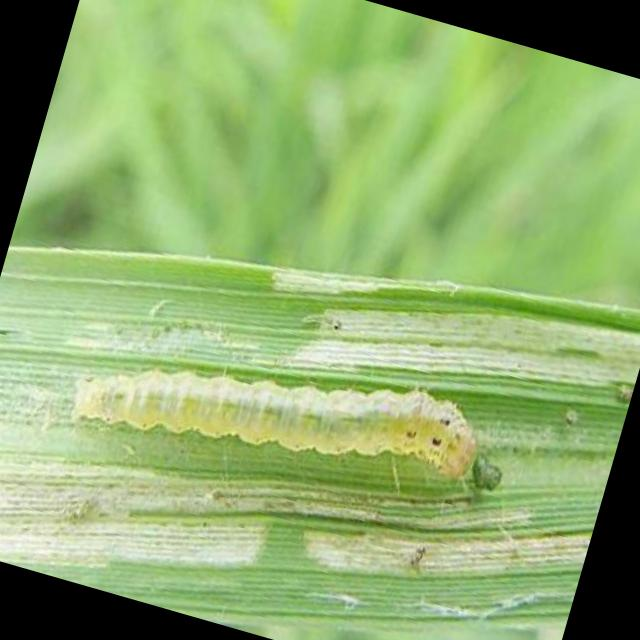leaf-folder: (49, 272, 580, 580)
